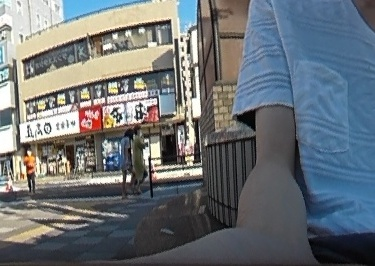person: (132, 126, 150, 192), (120, 127, 135, 193), (23, 146, 39, 193)
